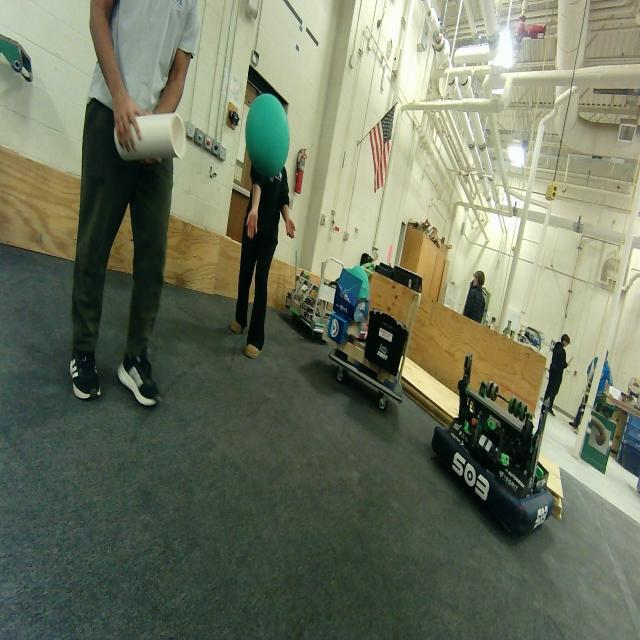algae: (236, 83, 296, 189)
coral: (108, 104, 192, 168)
